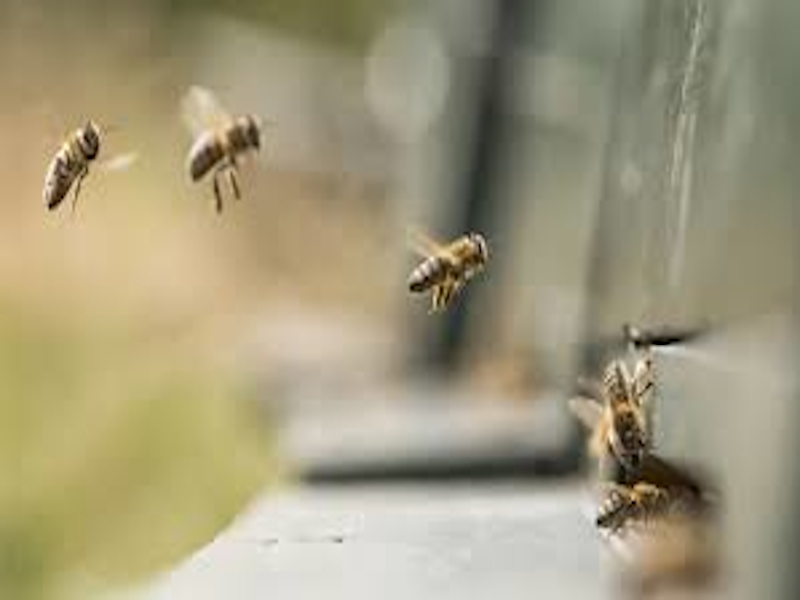abeja: (171, 80, 285, 218), (28, 91, 124, 234), (391, 222, 525, 324), (566, 351, 668, 473)
